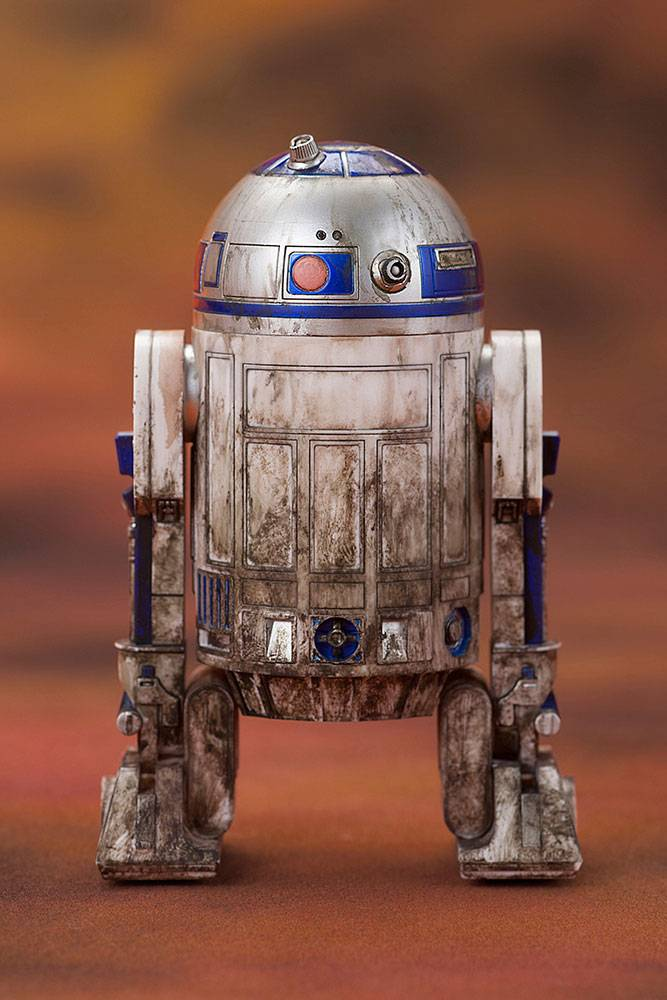r2d2: (95, 131, 584, 883)
